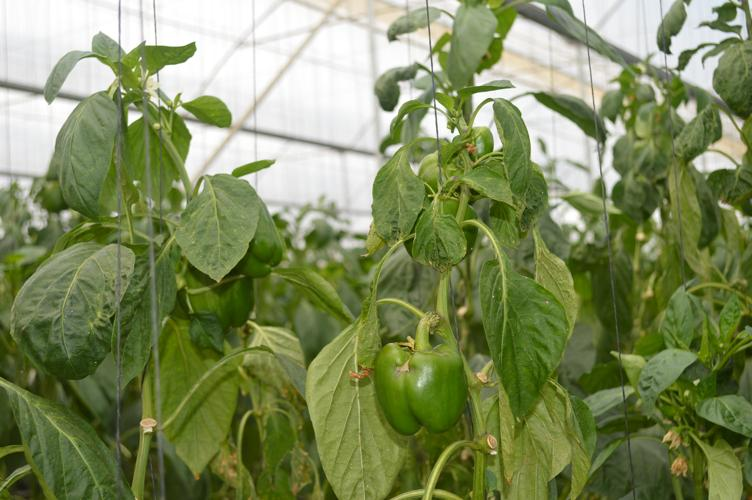BellPepper: (380, 345, 469, 433), (191, 278, 260, 333), (240, 199, 281, 276), (417, 201, 476, 251), (421, 152, 456, 195)
